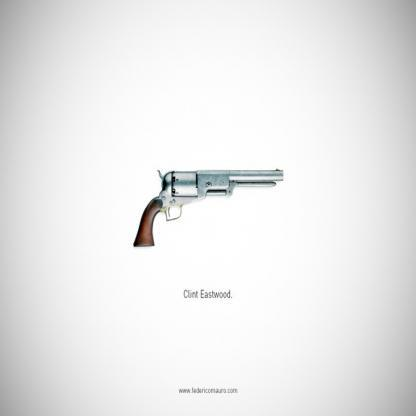Pistol: (133, 166, 284, 248)
